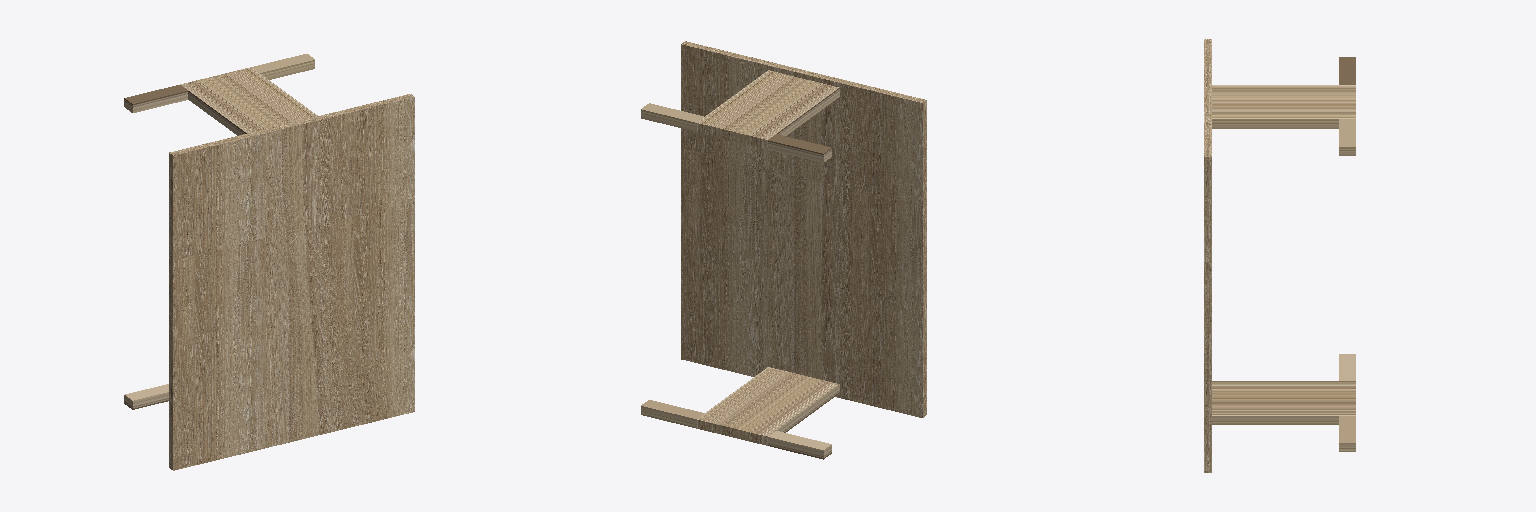
3 views of the same model, side by side, from view 1: azimuth 30°, elevation 25°; view 2: azimuth 150°, elevation 25°; view 3: azimuth 270°, elevation 25° (orthographic).
Visible parts, largest first — view 1: Cube; view 2: Cube; view 3: Cube.
Boxes of the visible parts, x1=… form: Cube: x1=124, y1=54, x2=414, y2=470; Cube: x1=641, y1=41, x2=926, y2=459; Cube: x1=1204, y1=39, x2=1355, y2=472.
Bounding box in the file's own units: 1.3 × 1.62 × 0.7098.
1 materials, 1 textured.